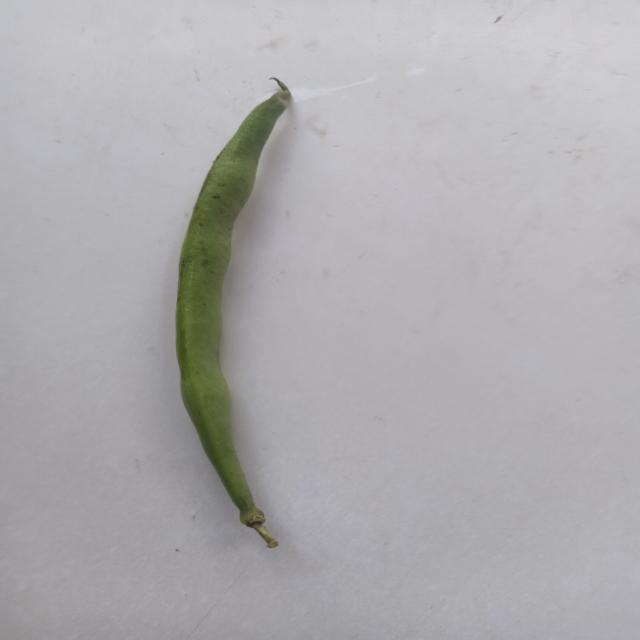Beans: (161, 63, 337, 556)
